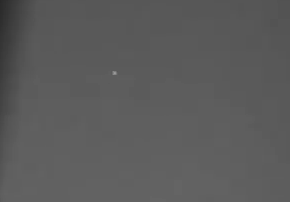Target: (113, 72, 117, 75)
